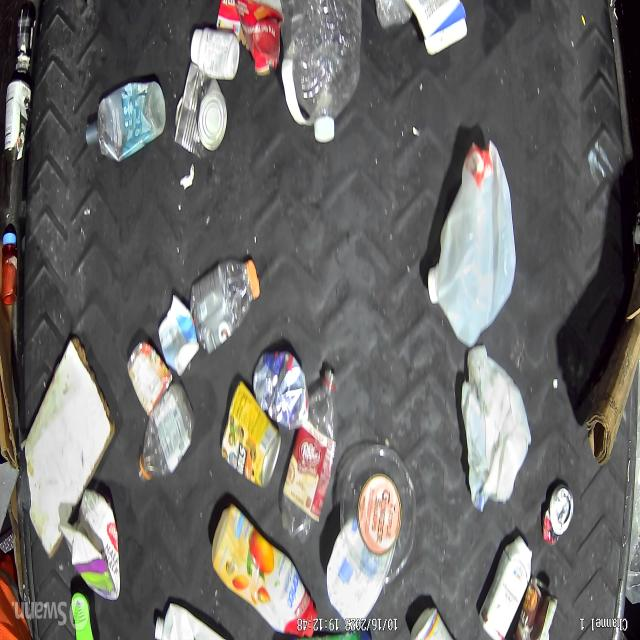can: (220, 376, 284, 492), (174, 61, 228, 161), (125, 338, 174, 419), (3, 74, 33, 166), (540, 482, 576, 546), (15, 6, 36, 75)
milk_jug: (425, 136, 518, 350), (460, 342, 532, 517)
non_white_jug: (209, 500, 319, 640)
plastic_bottle: (282, 0, 365, 144), (279, 362, 339, 544), (136, 378, 198, 489)
